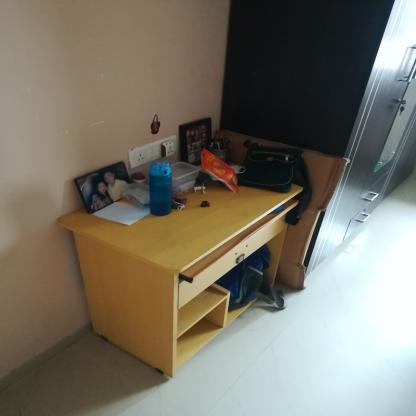hot_and_sweet: (203, 148, 244, 195)
